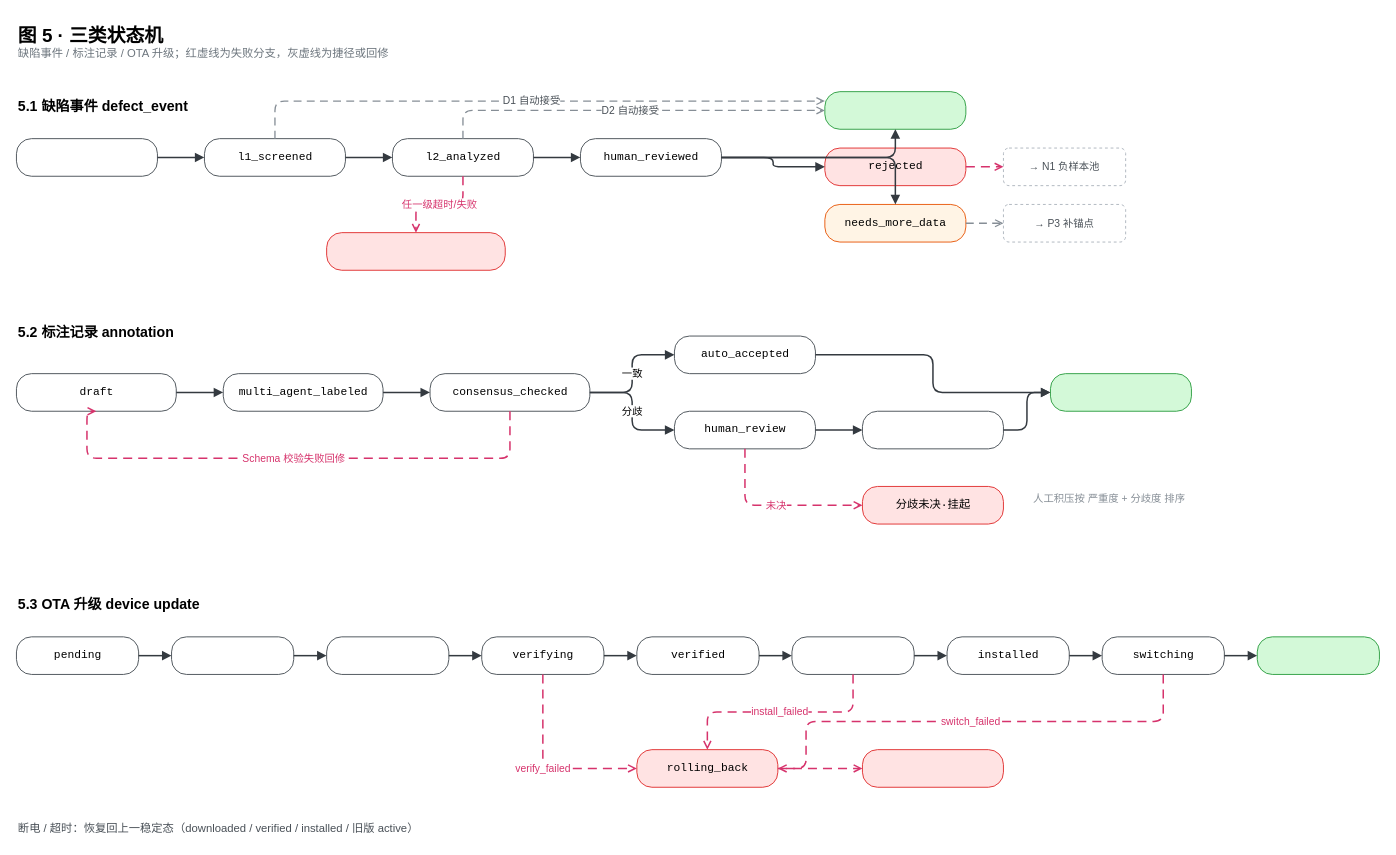
Image size: 1396x855. Some labels were removed from this diagram. Each missing label, with the centre of its shape:
"active" goes at point 1317,655.
"arbitrated" goes at point 932,429.
"confirmed" goes at point 895,110.
"downloaded" goes at point 387,655.
"downloading" goes at point 232,655.
"frozen" goes at point 1120,392.
"installing" goes at point 852,655.
"reported" goes at point 86,157.
"rolled_back" goes at point 932,768.
"suspended（降级/挂起）" goes at point 415,251.
